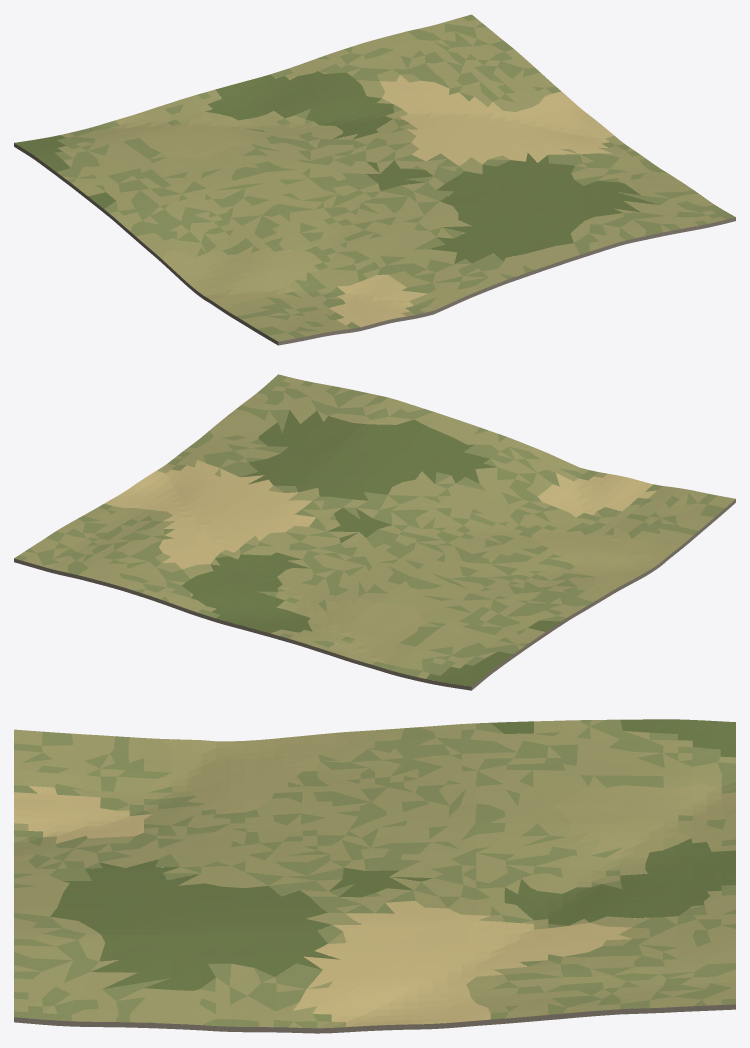
File: parca_+0_-4-uzak.glb
The picture shows the model from 3 angles, top to bottom: view 1: azimuth 30°, elevation 25°; view 2: azimuth 150°, elevation 25°; view 3: azimuth 270°, elevation 25°; orthographic projection. The views are drawn at different scales.
Parts seen in each view (by area): view 1: parca_+0_-4_arazi_uzak; view 2: parca_+0_-4_arazi_uzak; view 3: parca_+0_-4_arazi_uzak.
Boxes of the visible parts, x1,y1,x2,y2 form: parca_+0_-4_arazi_uzak: (14,14,735,345); parca_+0_-4_arazi_uzak: (14,374,735,690); parca_+0_-4_arazi_uzak: (14,719,735,1033).
Size of the model in its own units: 1000 by 72.27 by 1000.
